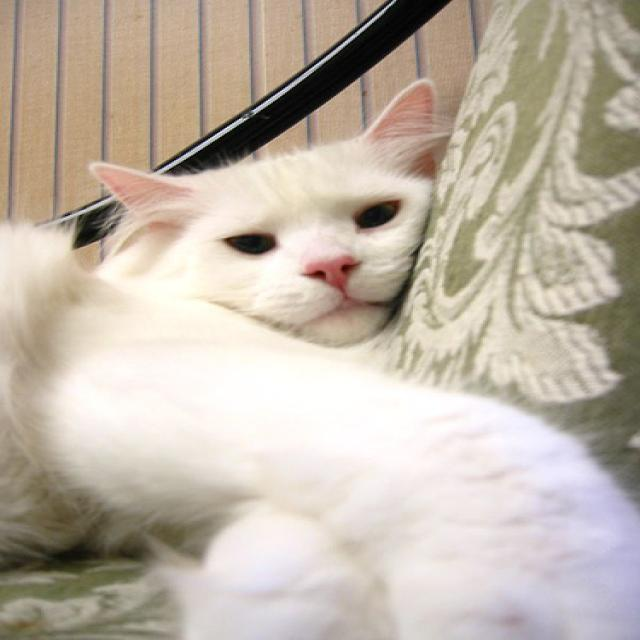left eye: (352, 196, 402, 230)
